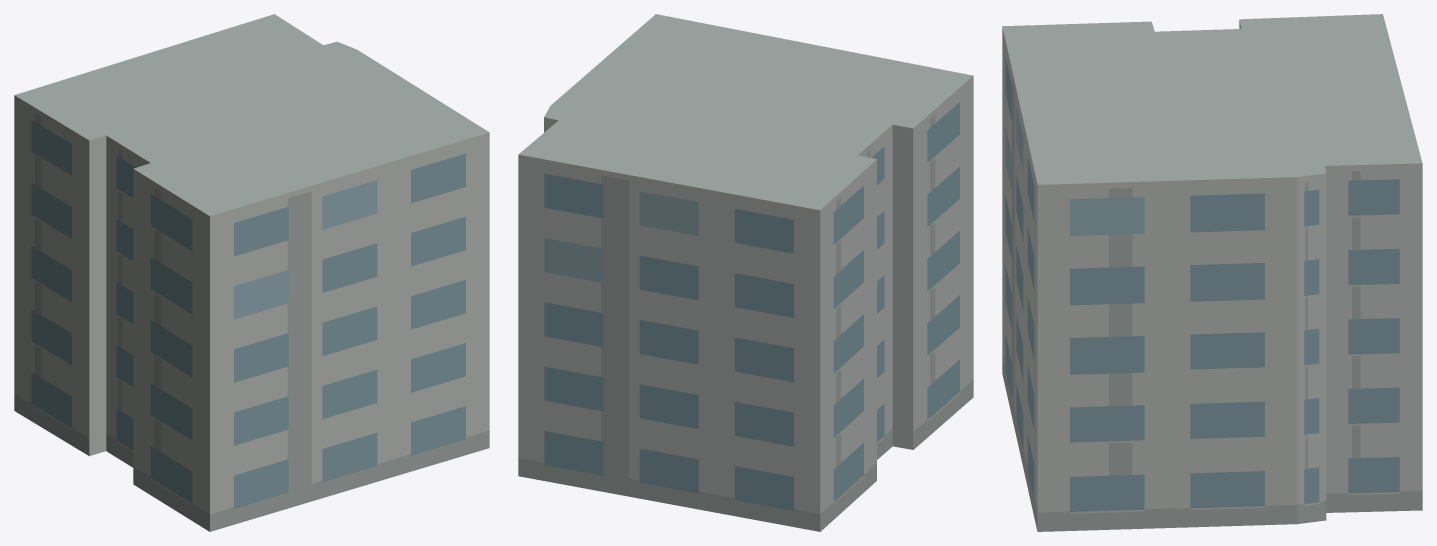
Rendered from survey-upis-32819204.glb.
3 views of the same model, side by side, from view 1: azimuth 30°, elevation 25°; view 2: azimuth 150°, elevation 25°; view 3: azimuth 270°, elevation 25° (orthographic). The views are drawn at different scales.
Parts seen in each view (by area): view 1: survey-upis-32819204.tmp; view 2: survey-upis-32819204.tmp; view 3: survey-upis-32819204.tmp.
Boxes of the visible parts, left/top/right/bottom form: survey-upis-32819204.tmp: left=14, top=14, right=489, bottom=531; survey-upis-32819204.tmp: left=518, top=14, right=973, bottom=531; survey-upis-32819204.tmp: left=1002, top=14, right=1422, bottom=531.
Bounding box in the file's own units: 15 × 14.2 × 15.59.
